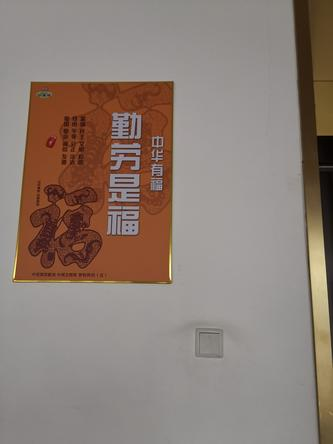switch: (195, 329, 226, 359)
